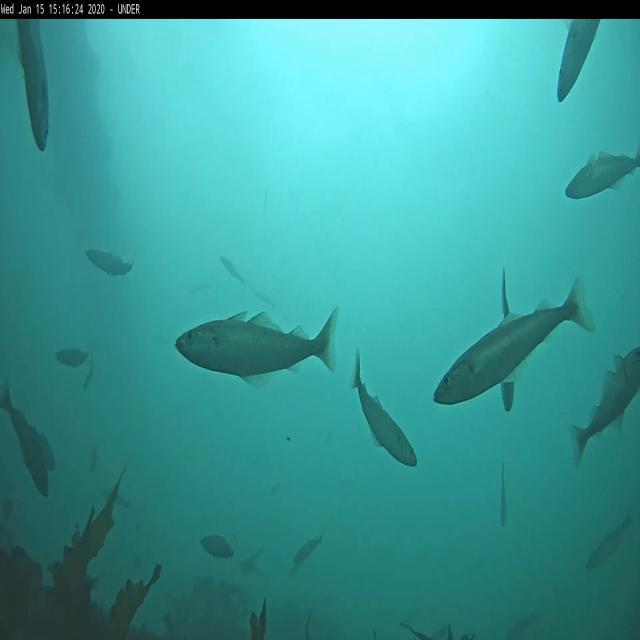fish: (432, 265, 591, 410), (176, 310, 343, 389), (570, 344, 640, 467), (356, 350, 419, 468), (0, 386, 49, 498), (15, 20, 48, 152), (564, 149, 639, 201), (557, 20, 600, 104), (586, 516, 632, 568), (86, 250, 136, 278), (28, 425, 55, 471), (294, 530, 324, 566), (200, 532, 236, 560), (504, 612, 538, 638), (55, 346, 89, 370), (102, 490, 132, 510), (222, 255, 242, 283), (499, 460, 507, 530), (85, 354, 94, 388)
